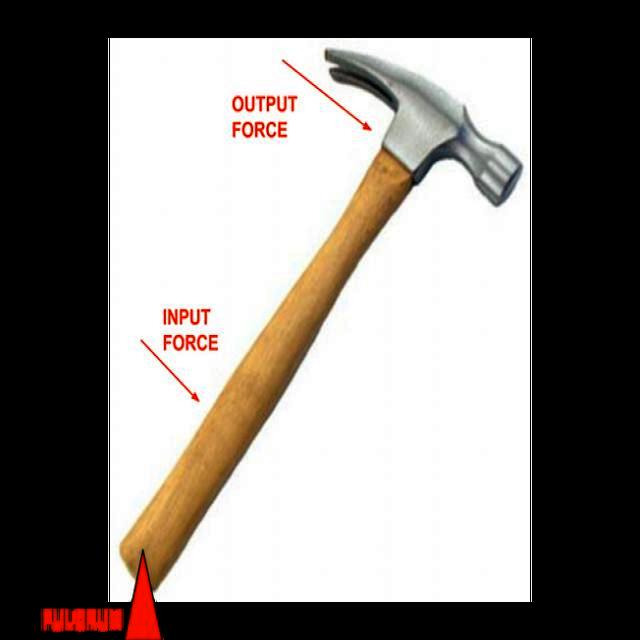hammer: (110, 41, 528, 598)
